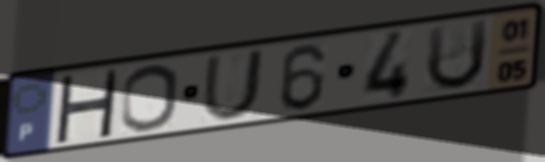4: (358, 28, 413, 101)
6: (277, 40, 329, 115)
H: (52, 68, 122, 144)
O: (118, 62, 180, 134)
U: (423, 16, 492, 94), (199, 46, 268, 123)
